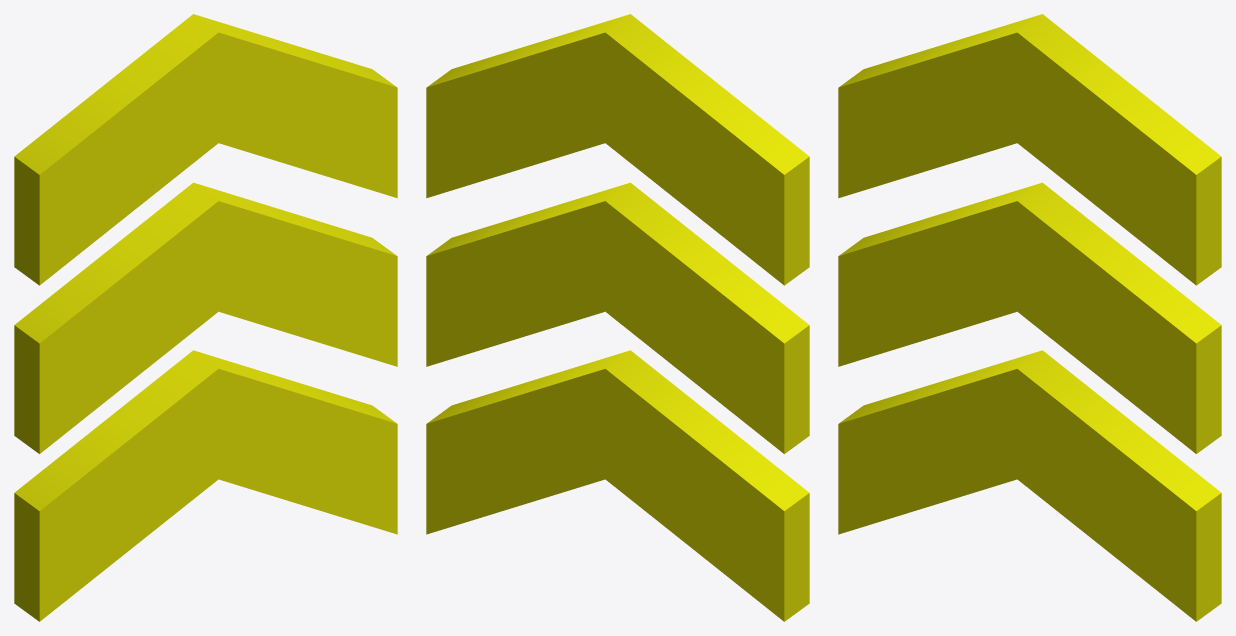
Rendered from SM_Icon_Arrow_Small_07.gltf.
3 renders of one model, left to right at view 1: azimuth 30°, elevation 25°; view 2: azimuth 150°, elevation 25°; view 3: azimuth 330°, elevation 25°, orthographic.
Parts seen in each view (by area): view 1: SM_Icon_Arrow_Small_07; view 2: SM_Icon_Arrow_Small_07; view 3: SM_Icon_Arrow_Small_07.
Boxes of the visible parts, x1,y1,x2,y2 form: SM_Icon_Arrow_Small_07: [14, 14, 397, 621]; SM_Icon_Arrow_Small_07: [426, 14, 809, 621]; SM_Icon_Arrow_Small_07: [838, 14, 1221, 621].
Size of the model in its own units: 0.3385 by 0.4931 by 0.0413.
Materials: 1 (1 with a texture image).
